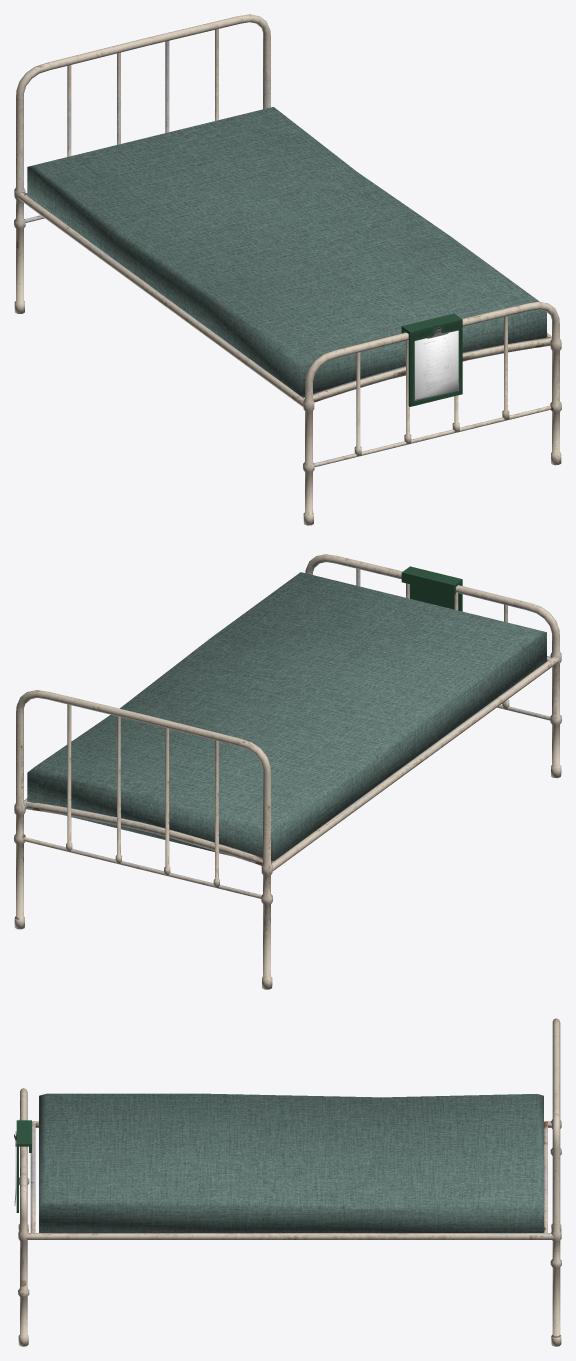
Rendered from Old bed.fbx.
3 views of the same model, one above another, from view 1: azimuth 30°, elevation 25°; view 2: azimuth 150°, elevation 25°; view 3: azimuth 270°, elevation 25° (orthographic). The views are drawn at different scales.
Parts seen in each view (by area): view 1: Object_2; view 2: Object_2; view 3: Object_2.
Boxes of the visible parts, left/top/right/bottom form: Object_2: left=14, top=14, right=561, bottom=525; Object_2: left=14, top=554, right=561, bottom=989; Object_2: left=14, top=1018, right=561, bottom=1346.
Bounding box in the file's own units: 233 × 210 × 465.
Materials: 1 (1 with a texture image).
